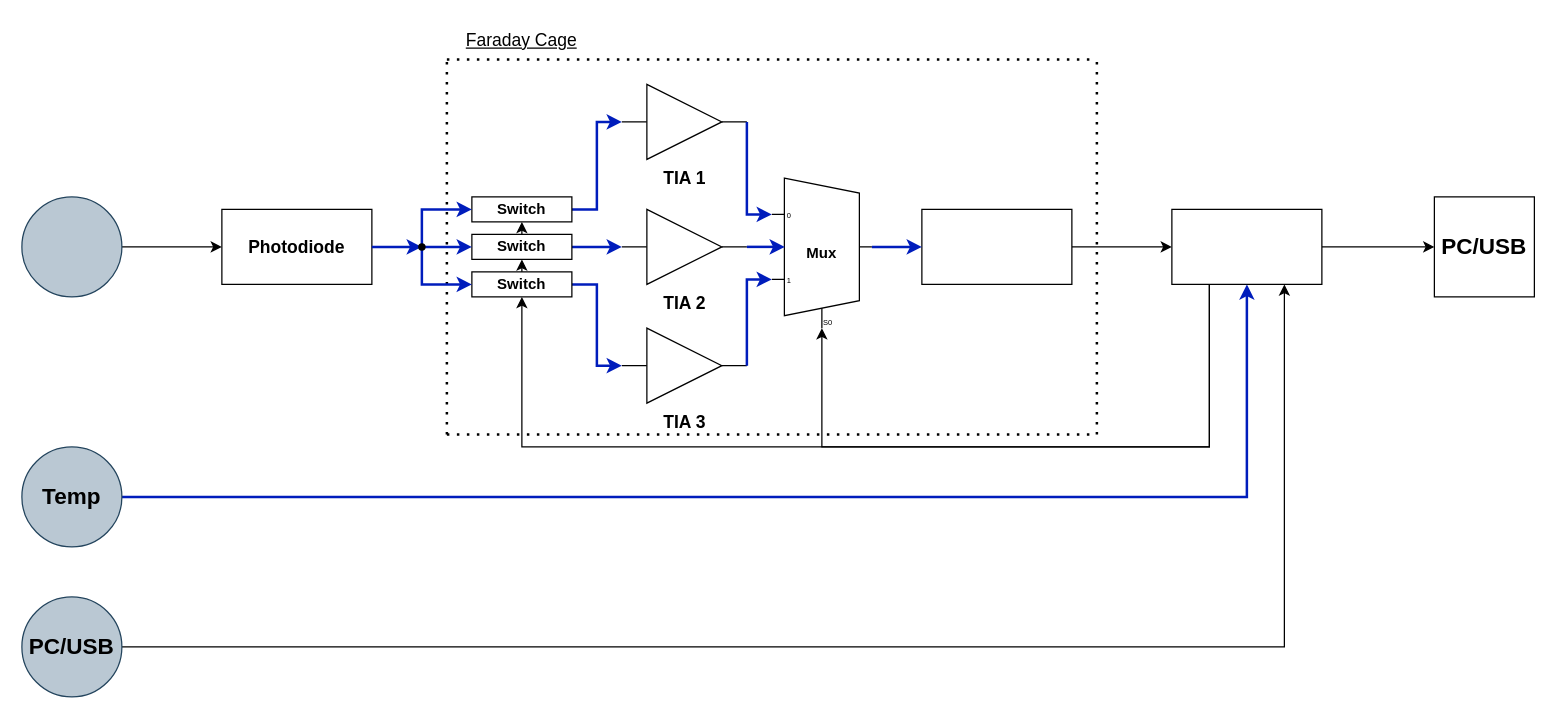
The diagram is 1556 pixels wide and 719 high, and some of its shapes have lost their labels. Each missing label, with the centre of its shape:
"ADC" belongs at (996,246).
"Light" belongs at (71,246).
"MCU" belongs at (1246,246).
